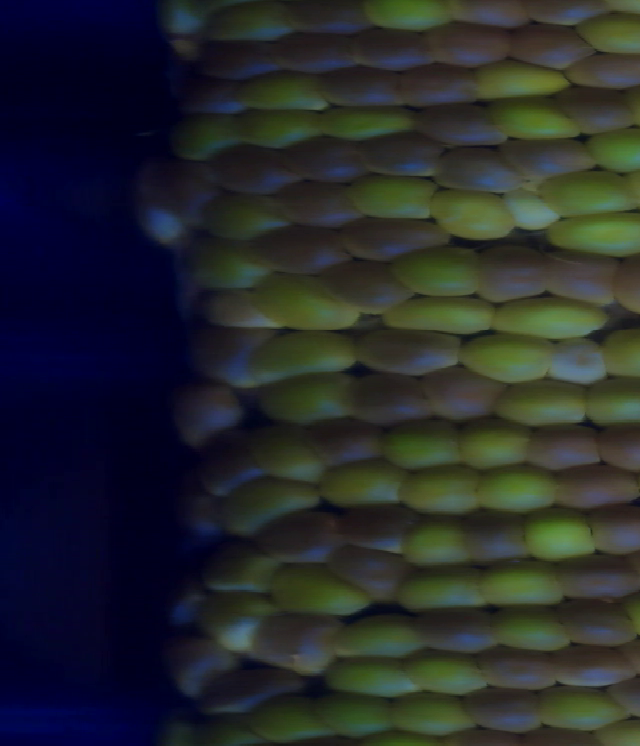fluorescent: (239, 320, 363, 395), (243, 267, 369, 337), (207, 472, 326, 546), (485, 287, 615, 349), (367, 407, 473, 479), (260, 553, 373, 620), (467, 547, 577, 615), (389, 457, 495, 525), (252, 372, 370, 432), (189, 586, 287, 656), (512, 502, 609, 572), (300, 683, 410, 743), (327, 605, 430, 669), (245, 429, 339, 499), (182, 232, 280, 299), (392, 559, 499, 620), (384, 239, 485, 303), (452, 329, 565, 386), (336, 169, 445, 228), (425, 183, 527, 246), (373, 290, 500, 340), (312, 455, 416, 516), (466, 456, 565, 520), (492, 375, 600, 433), (397, 643, 497, 703), (312, 649, 425, 702), (534, 167, 640, 223), (450, 412, 537, 480), (239, 687, 339, 746), (467, 56, 580, 108), (195, 540, 286, 603), (220, 105, 334, 155), (382, 687, 487, 740), (486, 599, 577, 660), (192, 280, 289, 337), (532, 683, 637, 735), (541, 206, 640, 261), (157, 108, 245, 169), (307, 99, 426, 144), (481, 93, 586, 144), (225, 68, 335, 116), (194, 1, 294, 49), (212, 192, 296, 245), (576, 369, 640, 435), (355, 1, 467, 37), (572, 8, 640, 61), (497, 186, 566, 235), (583, 121, 640, 176), (592, 323, 640, 385), (155, 1, 215, 45), (607, 585, 640, 652)
nonfluorescent: (177, 319, 286, 389), (190, 658, 311, 720), (345, 325, 468, 382), (246, 609, 349, 677), (151, 629, 248, 700), (311, 257, 418, 320), (165, 374, 249, 451), (335, 212, 457, 265), (119, 163, 195, 248), (244, 221, 358, 277), (200, 139, 306, 199), (452, 502, 544, 571), (324, 539, 417, 607), (248, 506, 348, 569), (534, 242, 624, 311), (342, 367, 438, 430), (145, 152, 223, 229), (404, 602, 509, 659), (420, 364, 513, 428), (468, 241, 552, 309), (547, 457, 640, 518), (273, 132, 378, 186), (329, 500, 430, 556), (467, 639, 568, 695), (298, 411, 387, 473), (426, 142, 525, 197), (419, 19, 521, 72), (349, 128, 449, 182), (410, 100, 515, 151), (455, 682, 550, 738), (550, 594, 640, 653), (311, 62, 415, 113), (168, 480, 232, 562), (504, 20, 599, 75), (549, 549, 640, 606), (194, 424, 263, 499), (391, 56, 485, 111), (550, 81, 640, 138), (544, 642, 640, 695), (519, 419, 607, 476), (347, 24, 442, 76), (498, 134, 603, 181), (266, 30, 363, 79), (185, 39, 288, 84), (272, 179, 366, 226), (170, 72, 250, 119), (280, 1, 378, 39), (578, 500, 640, 559), (564, 49, 640, 95), (162, 569, 215, 634), (592, 415, 640, 477), (445, 1, 535, 33), (519, 1, 618, 29), (605, 245, 640, 322), (600, 669, 640, 726)
